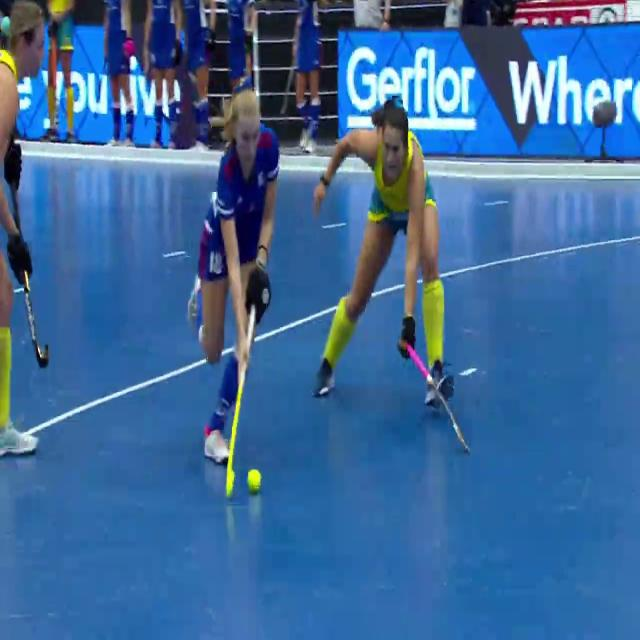ball: (241, 460, 270, 499)
